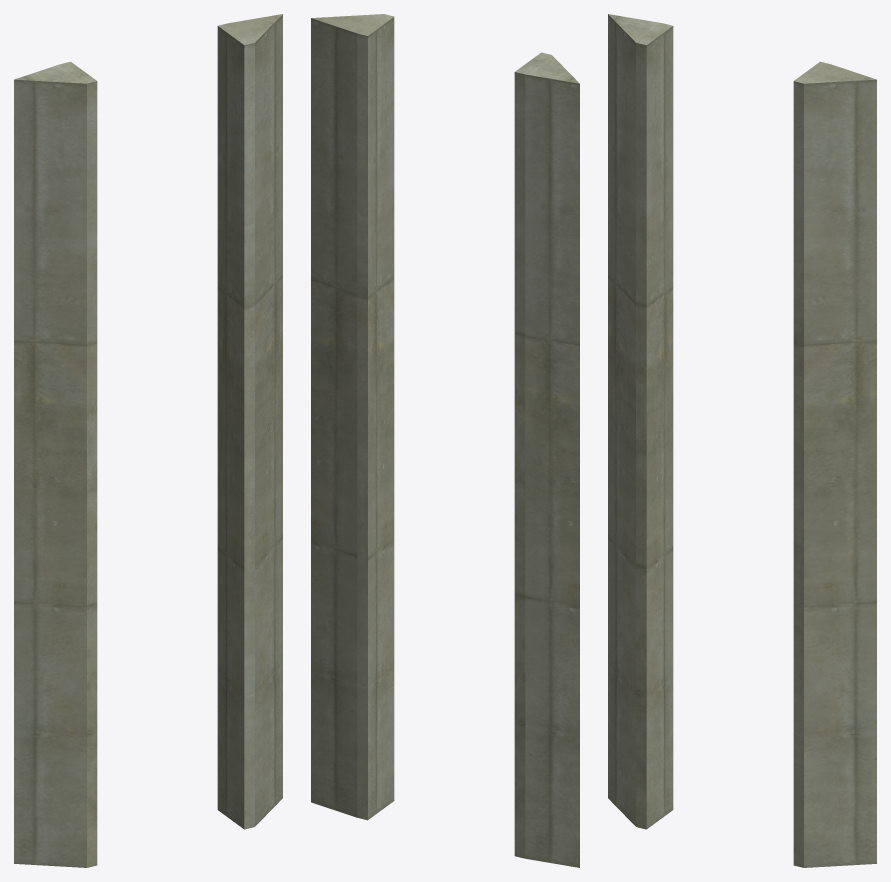
File: SM_LDFest_21_LadderFab_Col.fbx
3 renders of one model, left to right at view 1: azimuth 30°, elevation 25°; view 2: azimuth 150°, elevation 25°; view 3: azimuth 330°, elevation 25°, orthographic.
Visible parts, largest first — view 1: SM_LDFest_21_LadderFab_Col; view 2: SM_LDFest_21_LadderFab_Col; view 3: SM_LDFest_21_LadderFab_Col.
Part boxes in pixels (<box>): SM_LDFest_21_LadderFab_Col: <box>14,14,282,867</box>; SM_LDFest_21_LadderFab_Col: <box>311,14,579,867</box>; SM_LDFest_21_LadderFab_Col: <box>608,14,876,867</box>.
Bounding box in the file's own units: 315 × 877 × 54.06.
